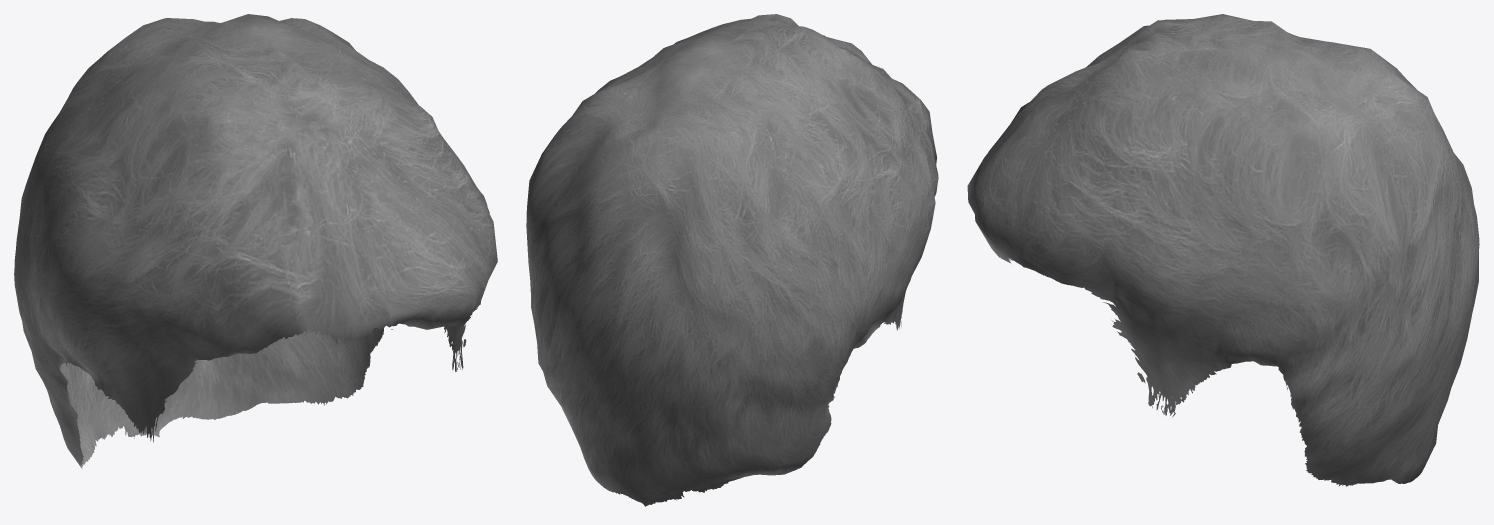
Rendered from short02.glb.
The picture shows the model from 3 angles, left to right: view 1: azimuth 30°, elevation 25°; view 2: azimuth 150°, elevation 25°; view 3: azimuth 270°, elevation 25°; orthographic projection. The views are drawn at different scales.
Visible parts, largest first — view 1: editor_short02; view 2: editor_short02; view 3: editor_short02.
Part boxes in pixels (x1,y1,x2,y2): editor_short02: (14,14,497,469); editor_short02: (526,14,938,506); editor_short02: (967,14,1479,486).
Size of the model in its own units: 0.1745 by 0.204 by 0.218.
1 material, 1 textured.
